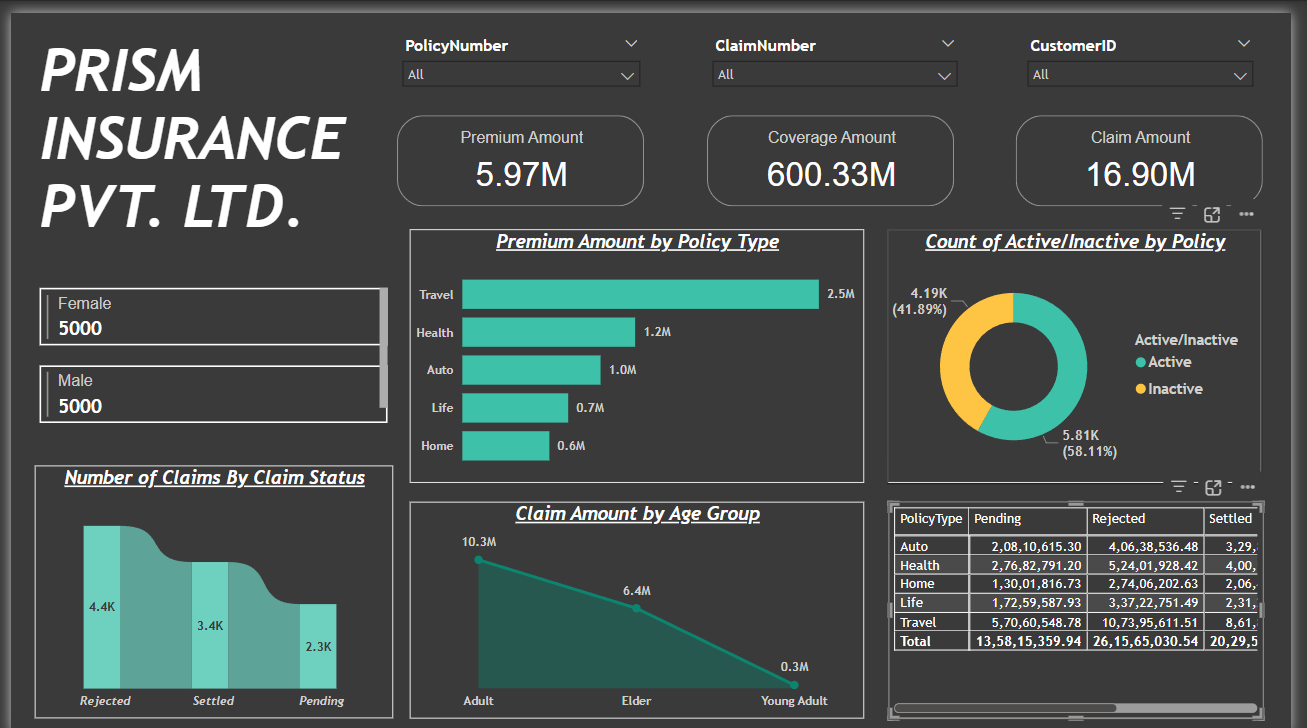

This screenshot's page, from the dashboard's own definition file:
{"tool":"powerbi","page":{"name":"Page 1","canvas":[1280,720],"ordinal":0},"visuals":[{"type":"slicer","fields":{"Values":["InsuranceData.PolicyNumber"]},"box":[381.5,17.8,258,65.9],"z":0},{"type":"slicer","fields":{"Values":["InsuranceData.ClaimNumber"]},"box":[691.6,17.8,264.8,65.9],"z":1},{"type":"slicer","fields":{"Values":["InsuranceData.CustomerID"]},"box":[1005.8,17.8,245.6,65.9],"z":2},{"type":"textbox","box":[23.3,17.8,358.1,222.3],"z":3},{"type":"cardVisual","fields":{"Data":["Sum(InsuranceData.PremiumAmount)"]},"box":[381.5,97.4,258,101.5],"z":4},{"type":"cardVisual","fields":{"Data":["Sum(InsuranceData.CoverageAmount)"]},"box":[691.6,97.4,258,101.5],"z":5},{"type":"cardVisual","fields":{"Data":["Sum(InsuranceData.ClaimAmount)"]},"box":[1000.3,97.4,258,101.5],"z":6},{"type":"multiRowCard","fields":{"Values":["InsuranceData.Gender","CountNonNull(InsuranceData.Gender)"]},"box":[23.3,270.3,358.1,146.8],"z":7},{"type":"ribbonChart","title":"Number of Claims By Claim Status","fields":{"Category":["InsuranceData.ClaimStatus"],"Y":["CountNonNull(InsuranceData.ClaimStatus)"]},"box":[23.3,452.8,358.1,252.5],"z":8},{"type":"barChart","title":"Premium Amount by Policy Type","fields":{"Category":["InsuranceData.PolicyType"],"Y":["Sum(InsuranceData.PremiumAmount)"]},"box":[399.3,216.8,454.2,253.9],"z":9},{"type":"lineChart","title":"Claim Amount by Age Group","fields":{"Y":["Sum(InsuranceData.ClaimAmount)"],"Category":["InsuranceData.Age Group"]},"box":[399.3,488.5,454.2,216.8],"z":10},{"type":"donutChart","title":"Count of Active/Inactive by Policy","fields":{"Category":["InsuranceData.Active/Inactive"],"Y":["CountNonNull(InsuranceData.Active/Inactive)"]},"box":[876.8,216.8,374.6,253.9],"z":11},{"type":"pivotTable","fields":{"Values":["Sum(InsuranceData.CoverageAmount)"],"Rows":["InsuranceData.PolicyType"],"Columns":["InsuranceData.ClaimStatus"]},"box":[877,489,375,217],"z":12}]}

Visuals, with their boxes in screenshot pixels (x1, y1, x2, y2), scaled from the page's 1280x720 canvas onto the 1307x728 screenshot:
slicer - InsuranceData.PolicyNumber: bbox(390, 18, 653, 85)
slicer - InsuranceData.ClaimNumber: bbox(706, 18, 977, 85)
slicer - InsuranceData.CustomerID: bbox(1027, 18, 1278, 85)
textbox: bbox(24, 18, 389, 243)
cardVisual - Sum(InsuranceData.PremiumAmount): bbox(390, 98, 653, 201)
cardVisual - Sum(InsuranceData.CoverageAmount): bbox(706, 98, 970, 201)
cardVisual - Sum(InsuranceData.ClaimAmount): bbox(1021, 98, 1285, 201)
multiRowCard - InsuranceData.Gender x CountNonNull(InsuranceData.Gender): bbox(24, 273, 389, 422)
"Number of Claims By Claim Status" ribbonChart: bbox(24, 458, 389, 713)
"Premium Amount by Policy Type" barChart: bbox(408, 219, 872, 476)
"Claim Amount by Age Group" lineChart: bbox(408, 494, 872, 713)
"Count of Active/Inactive by Policy" donutChart: bbox(895, 219, 1278, 476)
pivotTable - Sum(InsuranceData.CoverageAmount) x InsuranceData.PolicyType: bbox(895, 494, 1278, 714)
